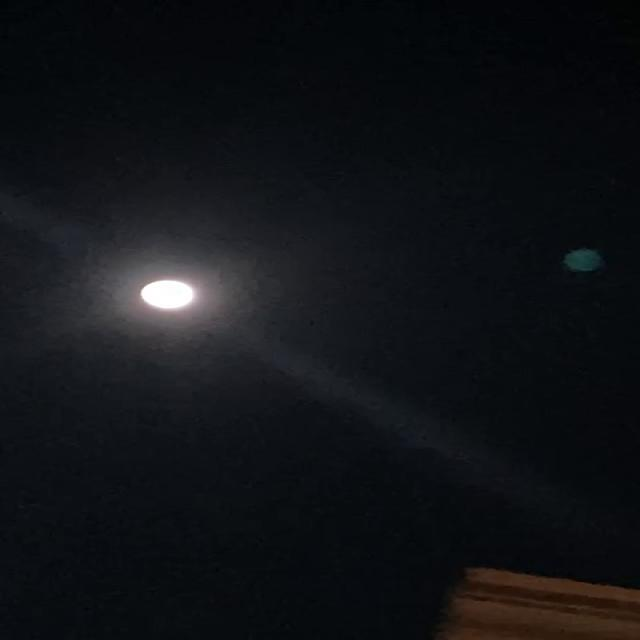moon: (125, 271, 216, 317)
